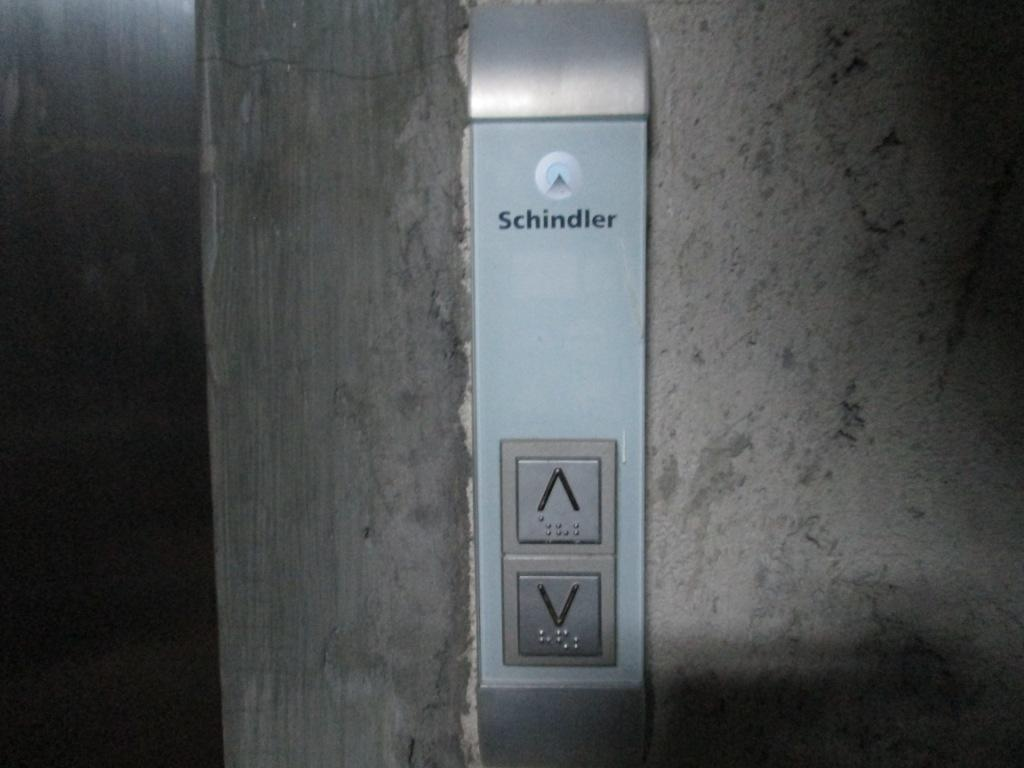down: (512, 565, 608, 667)
up: (511, 446, 607, 548)
